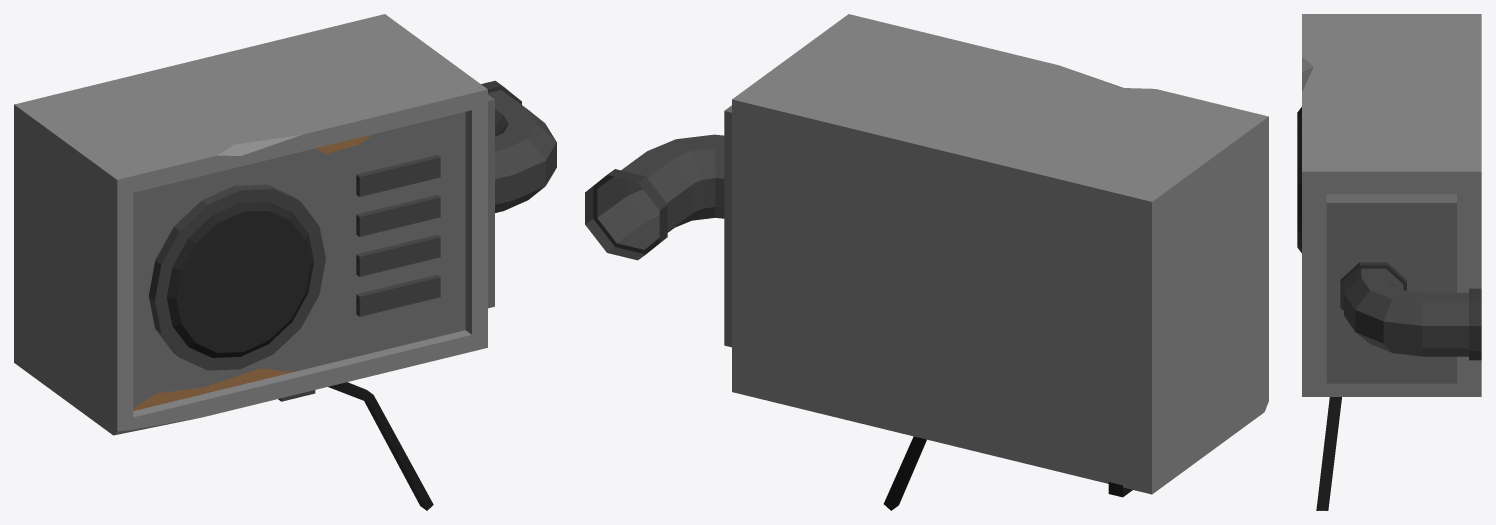
File: SM_BuildingsDecor_07.fbx
3 views of the same model, side by side, from view 1: azimuth 30°, elevation 25°; view 2: azimuth 150°, elevation 25°; view 3: azimuth 270°, elevation 25° (orthographic). The views are drawn at different scales.
Parts seen in each view (by area): view 1: SM_BuildingsDecor_07; view 2: SM_BuildingsDecor_07; view 3: SM_BuildingsDecor_07.
Part boxes in pixels (bbox=[...]): SM_BuildingsDecor_07: bbox=[14, 14, 556, 510]; SM_BuildingsDecor_07: bbox=[585, 14, 1268, 510]; SM_BuildingsDecor_07: bbox=[1297, 14, 1481, 510].
Size of the model in its own units: 0.9508 by 0.7529 by 0.3477.
